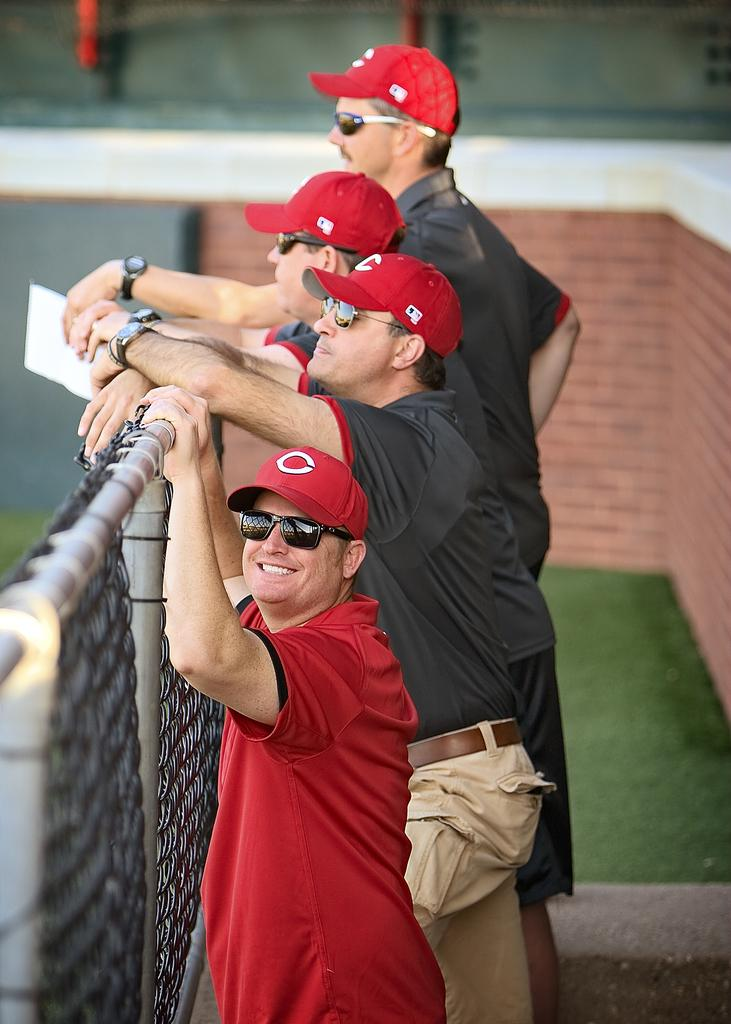Hat: (299, 253, 462, 355), (222, 444, 368, 544), (242, 170, 408, 252), (310, 44, 460, 128)
